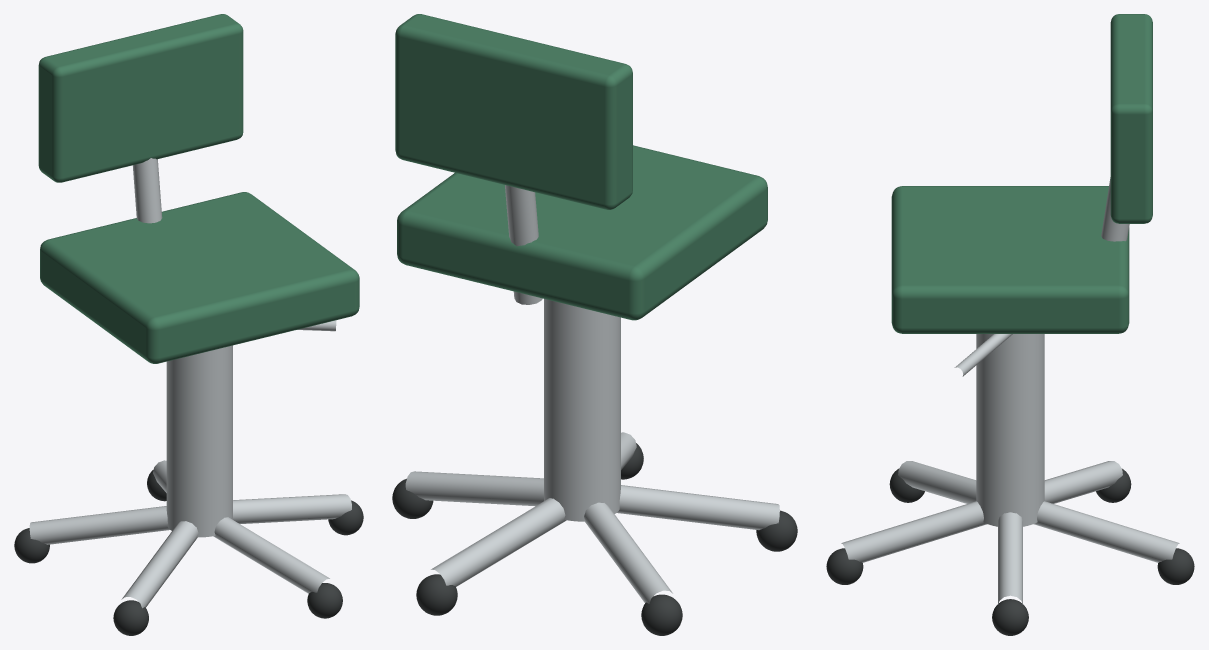
The model's file is clockmaker-and-watch-repair-adjustable-work-chair-9d8c36ec__30597.glb.
The picture shows the model from 3 angles, left to right: view 1: azimuth 30°, elevation 25°; view 2: azimuth 150°, elevation 25°; view 3: azimuth 270°, elevation 25°; orthographic projection. The views are drawn at different scales.
Parts seen in each view (by area): view 1: adjustable-work-chair; view 2: adjustable-work-chair; view 3: adjustable-work-chair.
Boxes of the visible parts, bbox=[...] form: adjustable-work-chair: bbox=[14, 14, 363, 635]; adjustable-work-chair: bbox=[392, 14, 797, 635]; adjustable-work-chair: bbox=[826, 14, 1194, 635].
Bounding box in the file's own units: 0.667 × 1.05 × 0.6977.
